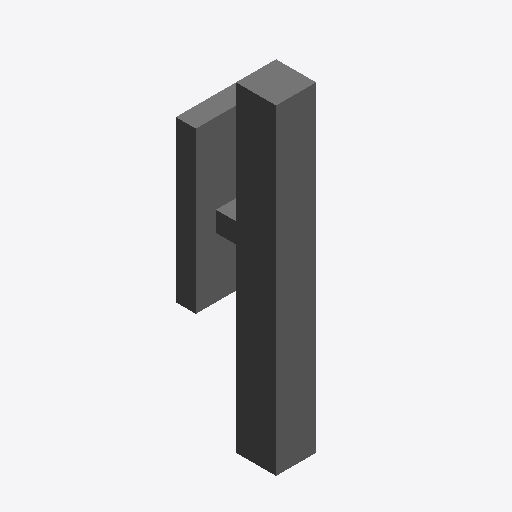
A Minecraft block model of 3 cuboids, rendered isometrically (azimuth 45°, elevation 35.3°) with the resource pack's own textures.
Visible parts, largest first — element 3, element 2, element 1.
Part boxes in pixels (x1,y1,x2,y2): element 3: (236,59,315,475); element 2: (176,83,235,313); element 1: (216,198,235,243).
Size of the model in its own units: 4 by 16 by 4.